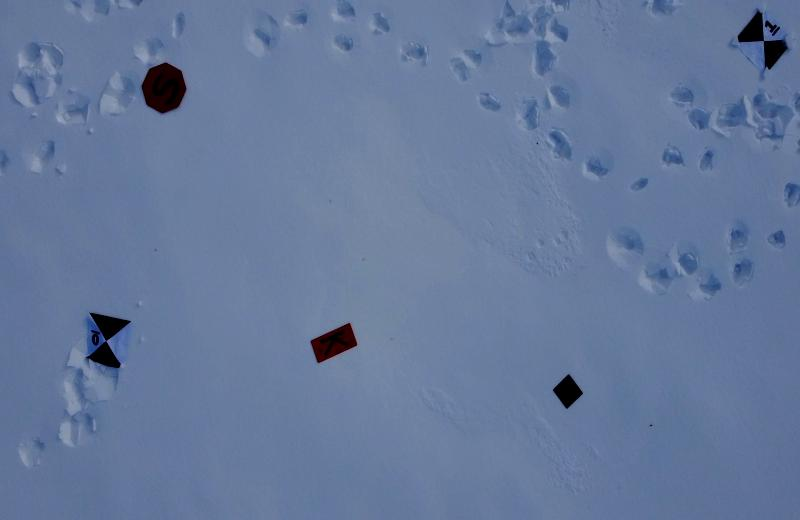Octagon: (141, 62, 190, 117)
Rectangle: (310, 322, 358, 364)
Square: (553, 374, 583, 408)
